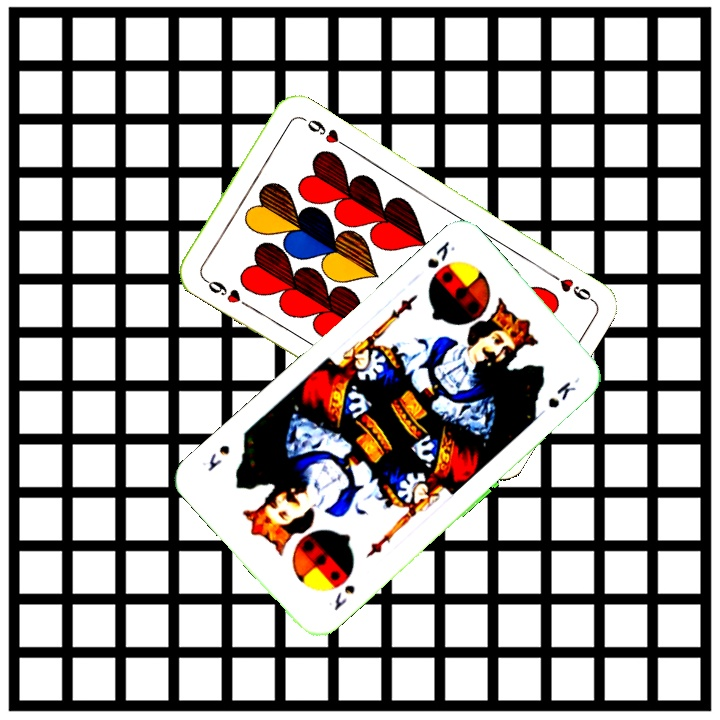H9: (198, 272, 251, 310), (542, 267, 595, 304)
SK: (422, 236, 458, 271), (324, 580, 358, 613)
